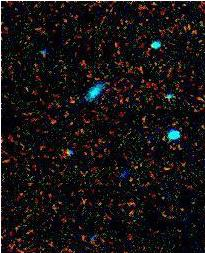star: (76, 224, 106, 253)
